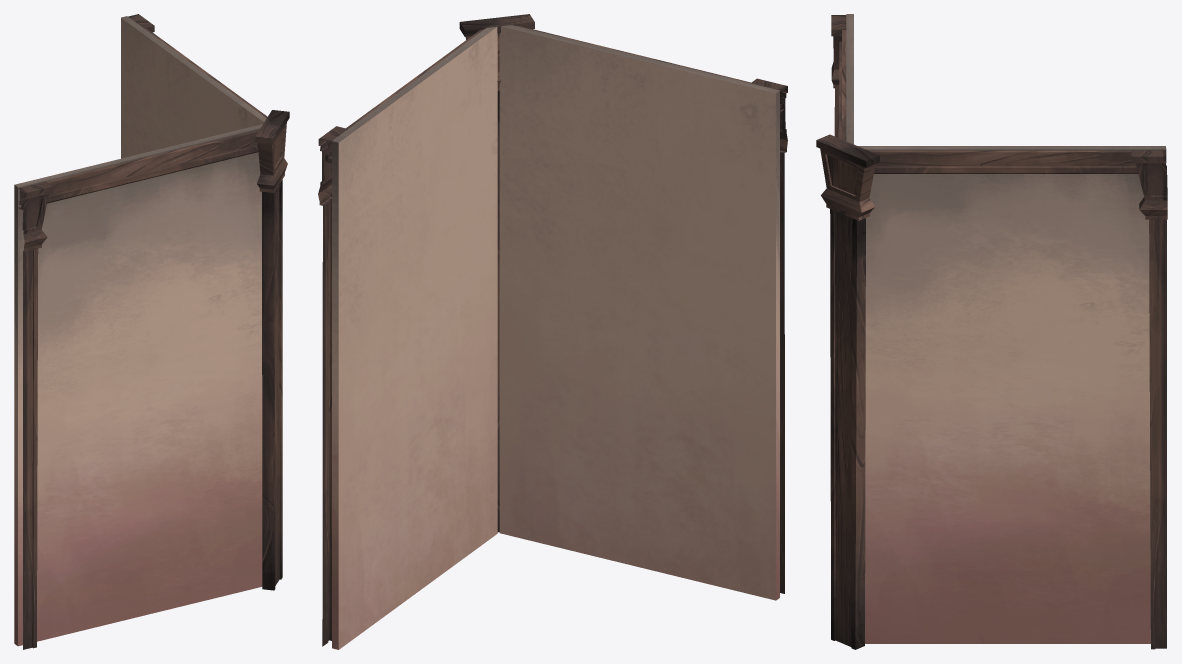
The model's file is Wall_Top_OuterCorner_V1.fbx.
The picture shows the model from 3 angles, left to right: view 1: azimuth 30°, elevation 25°; view 2: azimuth 150°, elevation 25°; view 3: azimuth 270°, elevation 25°; orthographic projection. The views are drawn at different scales.
Visible parts, largest first — view 1: Outer_Corner_Wall_Top; view 2: Outer_Corner_Wall_Top; view 3: Outer_Corner_Wall_Top.
Part boxes in pixels (box(x1,y1,x2,y2)): Outer_Corner_Wall_Top: box(14, 14, 289, 649); Outer_Corner_Wall_Top: box(318, 14, 787, 649); Outer_Corner_Wall_Top: box(816, 14, 1167, 649).
Bounding box in the file's own units: 0.0269 × 0.042 × 0.0271.
